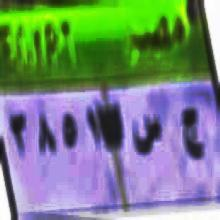1: (86, 98, 101, 162)
3: (9, 95, 32, 172)
5: (62, 97, 80, 164)
8: (37, 103, 57, 166)
jeem: (182, 96, 204, 172)
seen: (130, 113, 163, 164)
